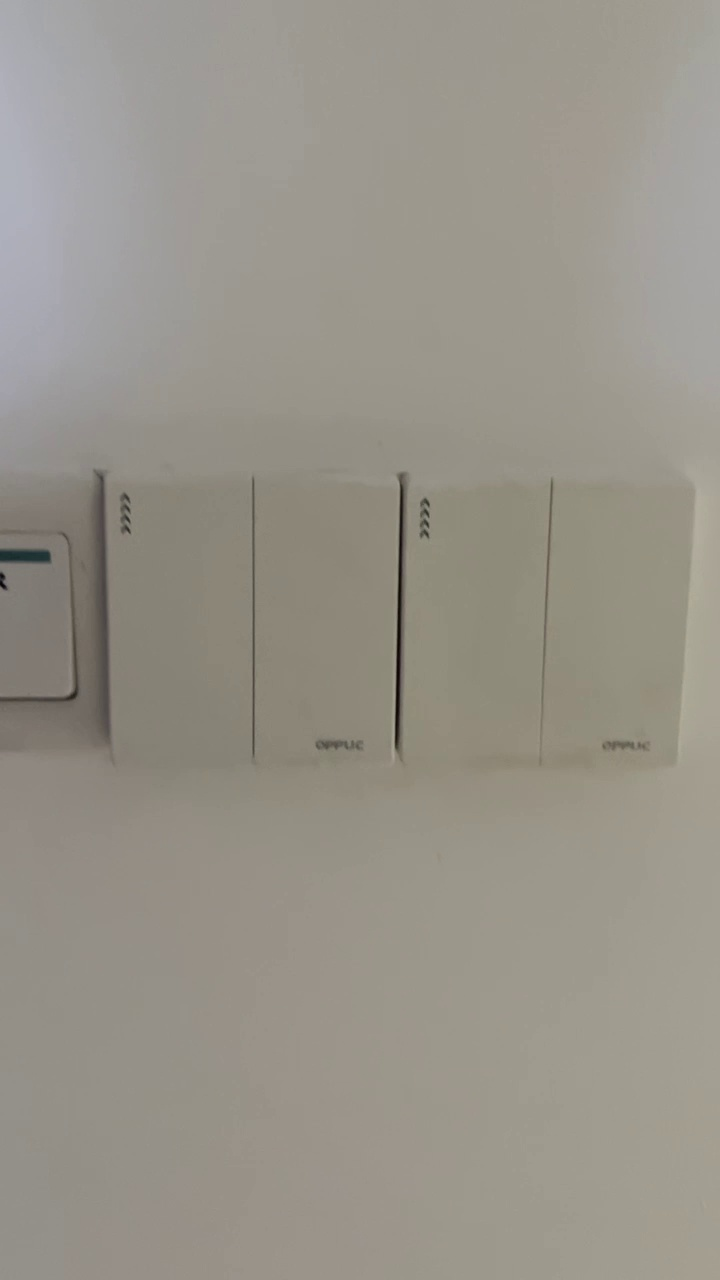button1: (258, 480, 398, 763), (547, 483, 684, 772), (403, 478, 542, 762), (109, 478, 251, 754)
